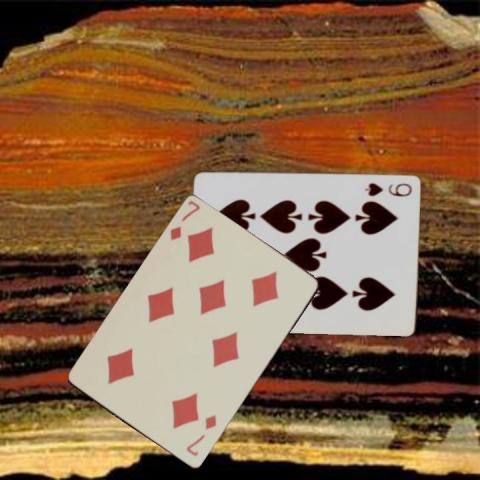7d: (183, 412, 218, 458), (167, 198, 202, 243)
9s: (362, 179, 413, 198)
